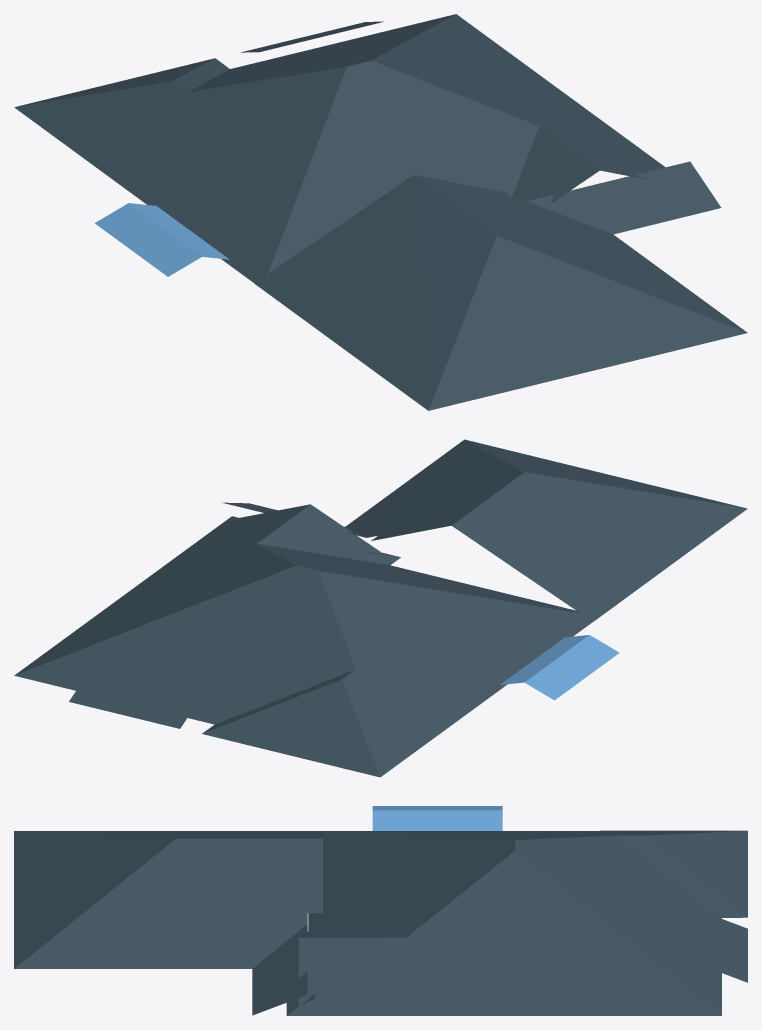
The model's file is 17_deacon_place_roof.obj.
The picture shows the model from 3 angles, top to bottom: view 1: azimuth 30°, elevation 25°; view 2: azimuth 150°, elevation 25°; view 3: azimuth 270°, elevation 25°; orthographic projection. The views are drawn at different scales.
Parts seen in each view (by area): view 1: roofr-facet-05, roofr-facet-14, roofr-facet-16, roofr-facet-09, roofr-facet-06, roofr-facet-15, roofr-facet-13, roofr-facet-04, roofr-facet-10, roofr-facet-07, roofr-facet-02, roofr-facet-08 (+2 smaller); view 2: roofr-facet-05, roofr-facet-04, roofr-facet-14, roofr-facet-06, roofr-facet-15, roofr-facet-02, roofr-facet-09, roofr-facet-10, roofr-facet-01, roofr-facet-16, roofr-facet-07, roofr-facet-08 (+1 smaller); view 3: roofr-facet-06, roofr-facet-15, roofr-facet-04, roofr-facet-09, roofr-facet-16, roofr-facet-02, roofr-facet-13, roofr-facet-08, roofr-facet-03, roofr-facet-05, roofr-facet-01, roofr-facet-14 (+1 smaller).
Boxes of the visible parts, <box> form: roofr-facet-05: <box>14,66,346,288</box>; roofr-facet-14: <box>254,175,496,410</box>; roofr-facet-16: <box>428,236,747,410</box>; roofr-facet-09: <box>262,60,538,288</box>; roofr-facet-06: <box>371,14,665,179</box>; roofr-facet-15: <box>414,175,746,332</box>; roofr-facet-13: <box>527,161,721,234</box>; roofr-facet-04: <box>188,14,455,92</box>; roofr-facet-10: <box>512,126,599,203</box>; roofr-facet-07: <box>95,203,201,276</box>; roofr-facet-02: <box>16,58,214,106</box>; roofr-facet-08: <box>129,203,229,259</box>; roofr-facet-05: <box>318,570,599,776</box>; roofr-facet-04: <box>14,565,355,724</box>; roofr-facet-14: <box>451,472,747,621</box>; roofr-facet-06: <box>14,504,309,675</box>; roofr-facet-15: <box>345,439,524,540</box>; roofr-facet-02: <box>202,679,379,777</box>; roofr-facet-09: <box>257,543,579,612</box>; roofr-facet-10: <box>257,504,400,565</box>; roofr-facet-01: <box>69,675,197,728</box>; roofr-facet-16: <box>465,439,745,508</box>; roofr-facet-07: <box>524,635,619,700</box>; roofr-facet-08: <box>500,635,588,684</box>; roofr-facet-06: <box>287,850,721,1015</box>; roofr-facet-15: <box>14,838,322,968</box>; roofr-facet-04: <box>515,835,721,1015</box>; roofr-facet-09: <box>308,831,515,937</box>; roofr-facet-16: <box>14,831,175,968</box>; roofr-facet-02: <box>647,830,747,917</box>; roofr-facet-13: <box>252,924,307,1015</box>; roofr-facet-08: <box>372,810,502,830</box>; roofr-facet-03: <box>619,835,747,917</box>; roofr-facet-05: <box>313,830,746,839</box>; roofr-facet-01: <box>712,915,747,982</box>; roofr-facet-14: <box>17,831,322,838</box>.
Bounding box in the file's own units: 35.73 × 6.21 × 52.82.
